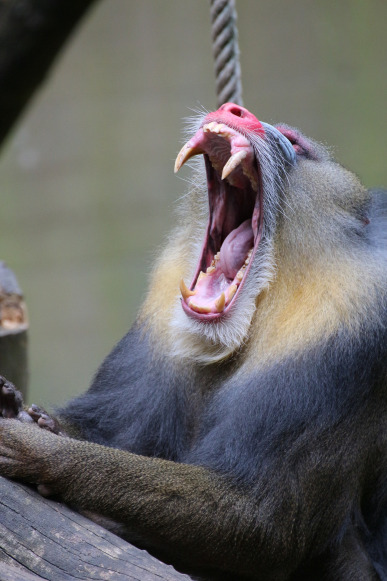Mandrill: (142, 95, 373, 570)
